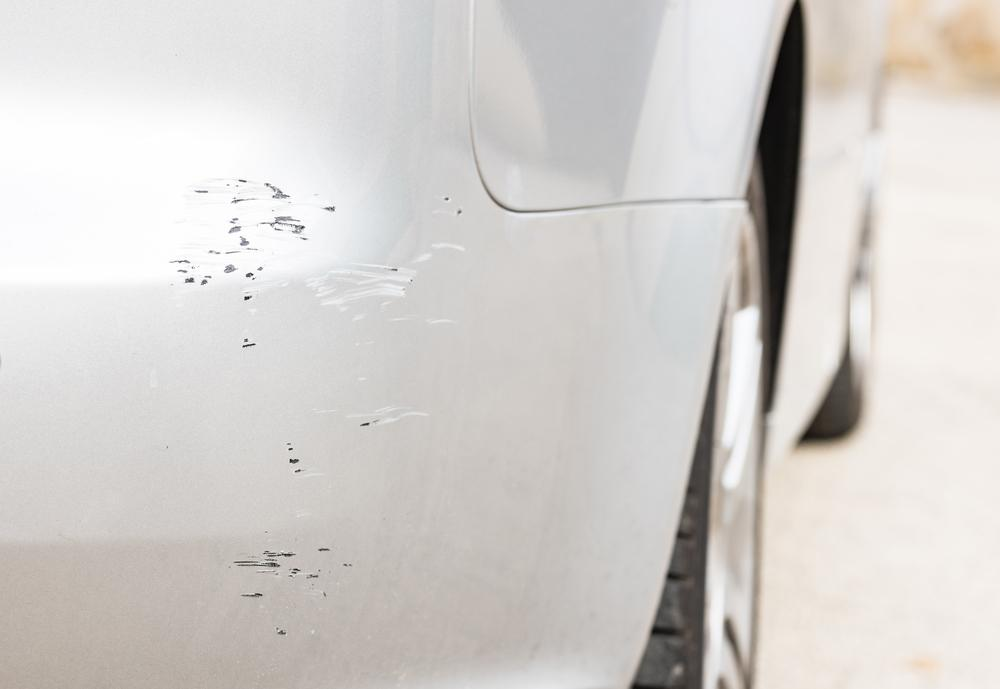scratch: (161, 168, 482, 636)
